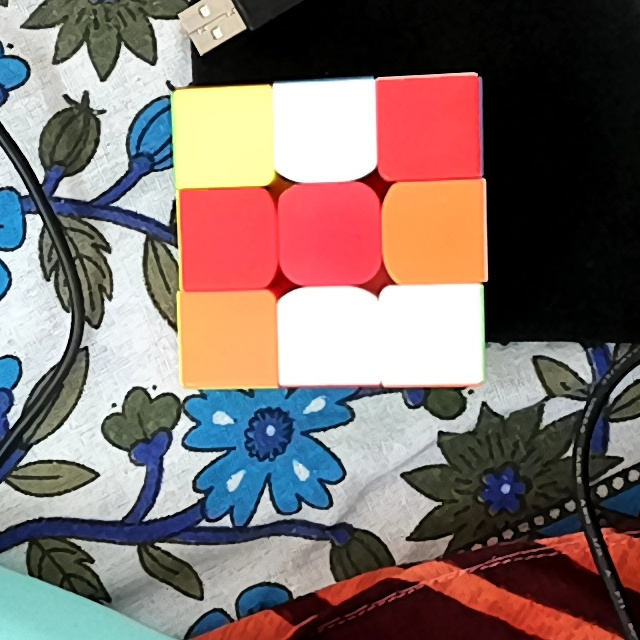tile: (382, 80, 478, 175), (393, 191, 482, 280), (387, 293, 476, 379), (182, 296, 274, 379), (181, 96, 267, 181), (285, 298, 372, 380), (184, 196, 268, 279), (287, 194, 372, 274), (284, 90, 371, 168)
